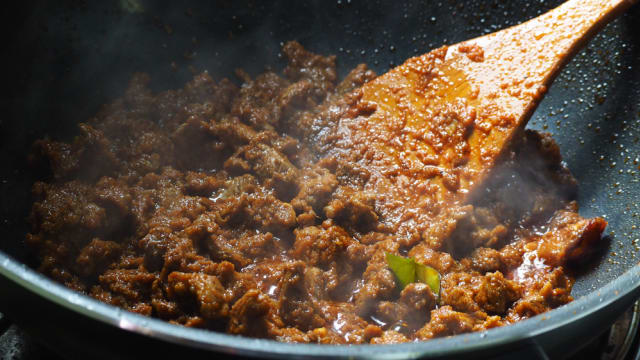rendang: (10, 14, 624, 354)
